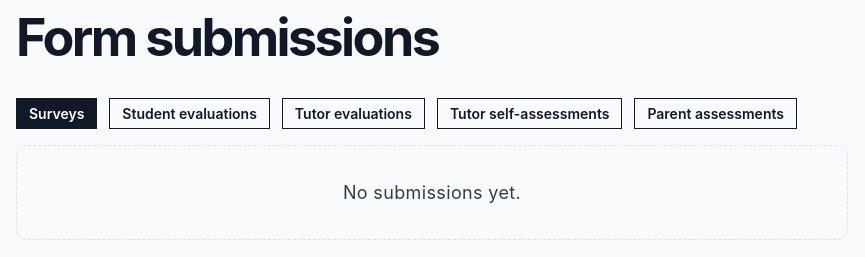
SubmissionsTable › switches tables when a tab is clicked
expect the text "No submissions yet." is shown: met, box [16,145,848,240]
Click the button "Tutor evaluations" at (353, 113), box [282,98,425,129]
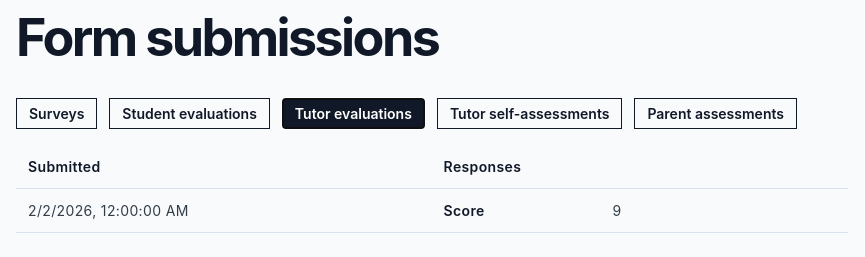
expect the text "Score" is shown: met, box [444,202,485,219]
expect the text "9" is shown: met, box [612,202,622,219]
